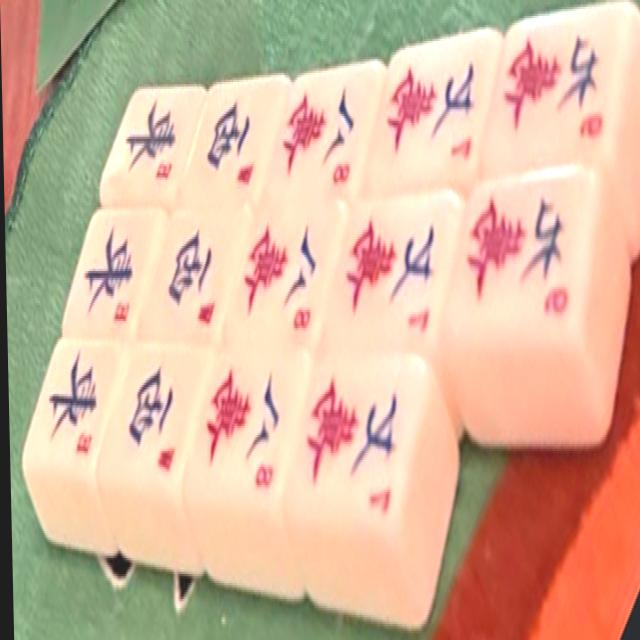east: (61, 206, 162, 352), (104, 90, 195, 211), (36, 336, 116, 465)
m7: (362, 34, 500, 194), (306, 362, 419, 526), (336, 200, 455, 353)
m8: (202, 357, 293, 506), (238, 208, 328, 338), (273, 70, 361, 191)
m9: (455, 181, 626, 450), (500, 3, 624, 170)
west: (141, 207, 234, 349), (116, 345, 192, 472), (197, 86, 264, 187)
